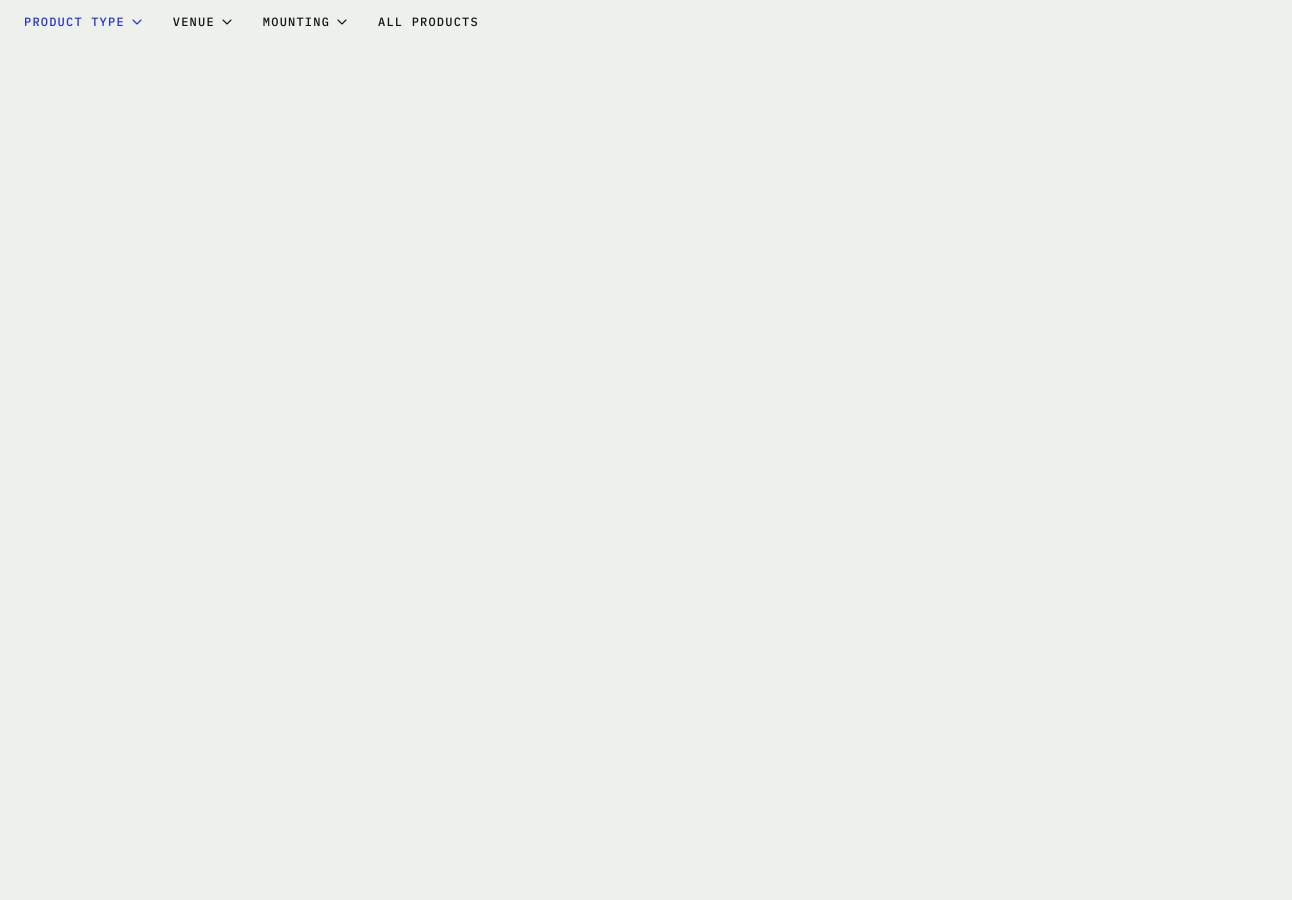
Test case: MegaMenu › closes with Escape from inside the panel and returns focus to the trigger
Step 1. Click the button "Product type" → x=84, y=22, box [12,0,157,44]
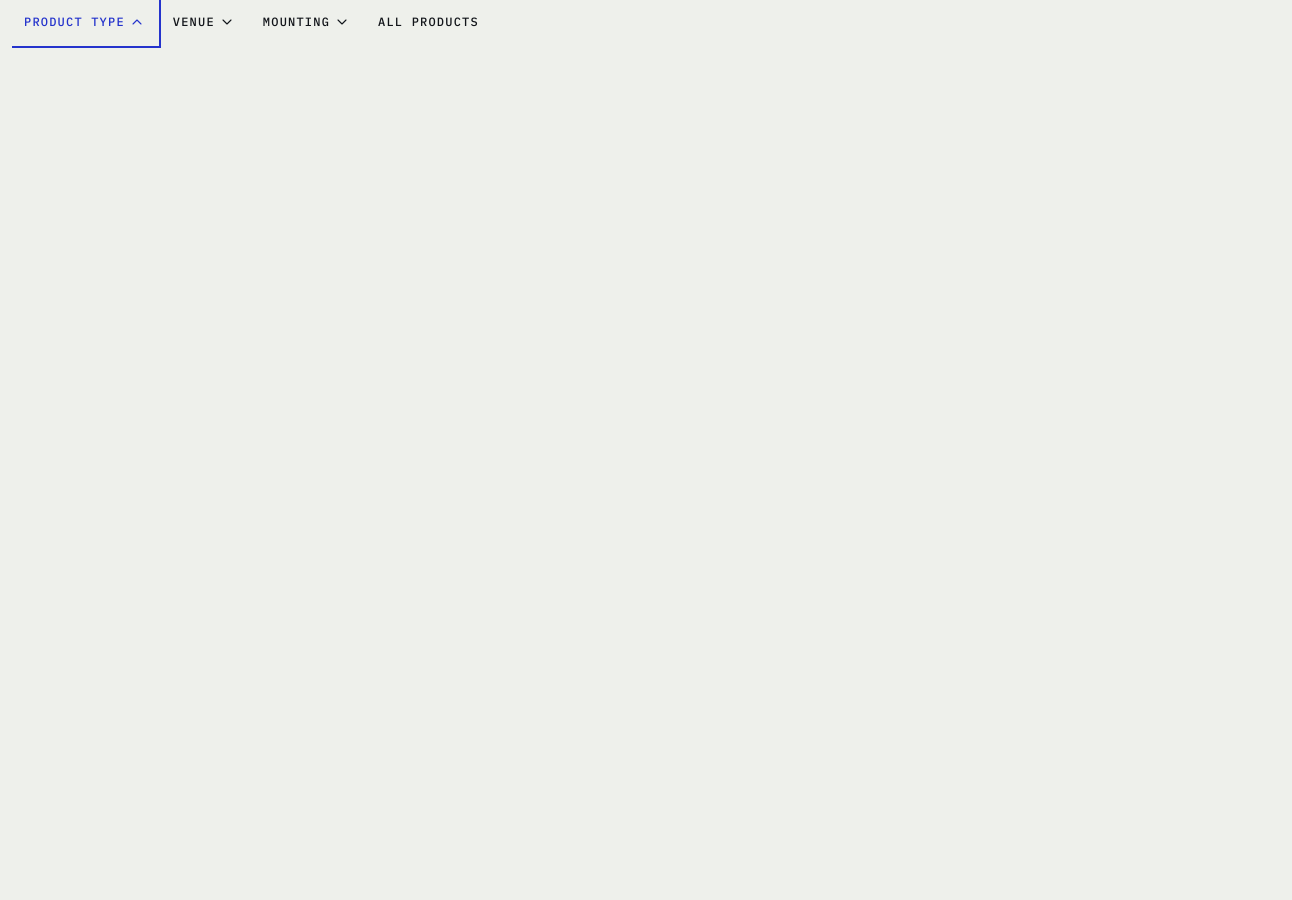
Step 2. Press Tab
(page scrolled)
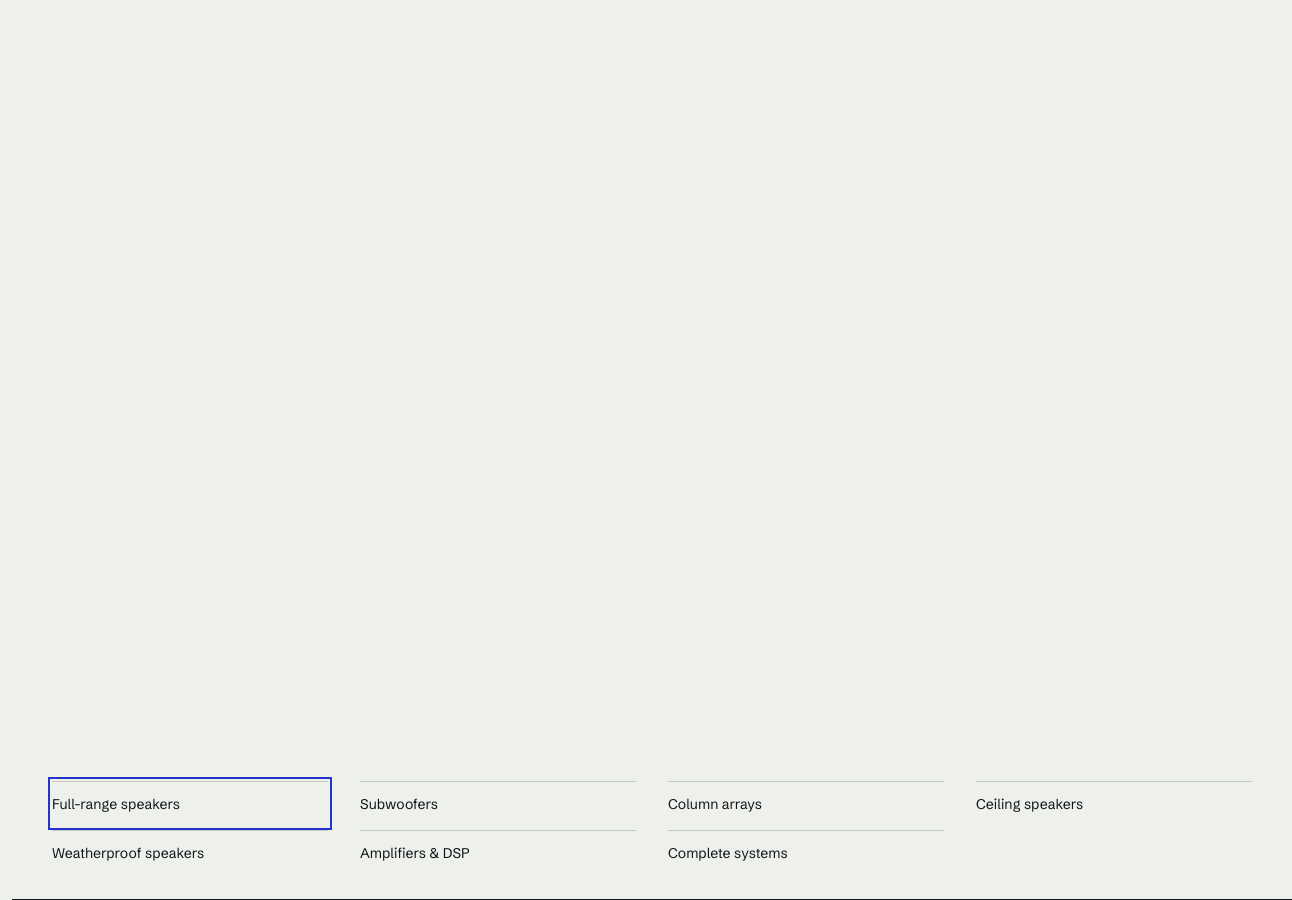
Step 3. Press Escape
(page scrolled)
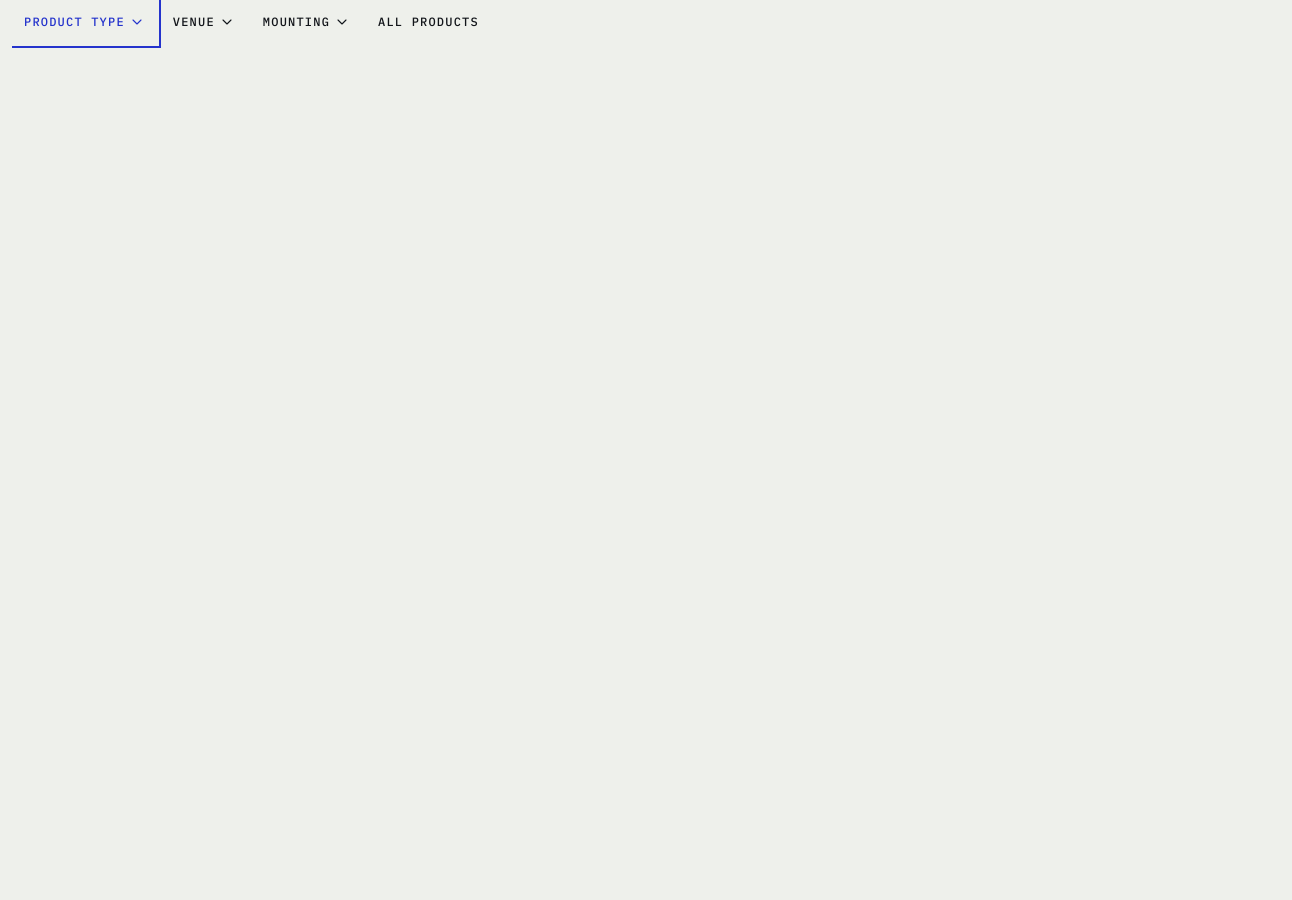
Expected: the button "Product type" is collapsed, [12,0,157,44]
